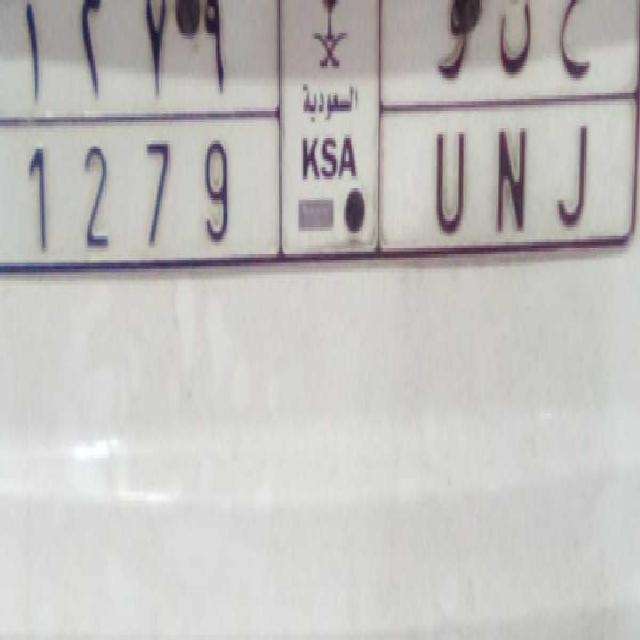license_plate: (9, 100, 611, 266)
